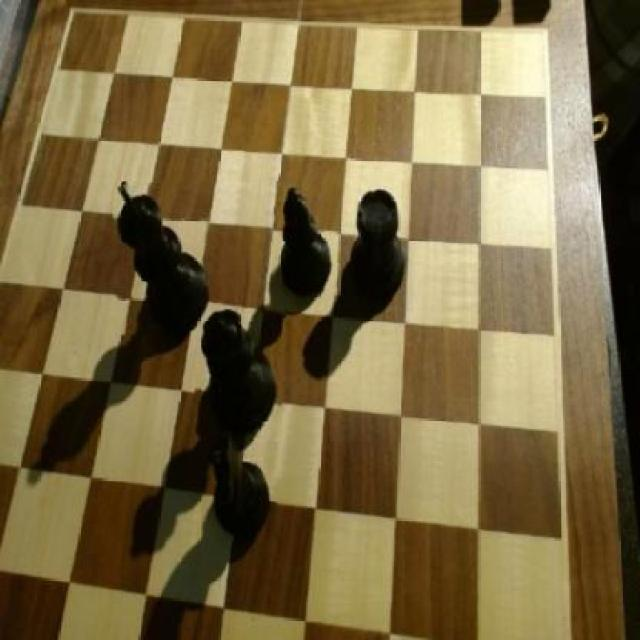bishop: (271, 178, 339, 301)
black-bishop: (114, 180, 211, 333)
black-king: (202, 423, 276, 542)
black-pawn: (196, 305, 286, 442)
black-queen: (351, 183, 412, 300)
